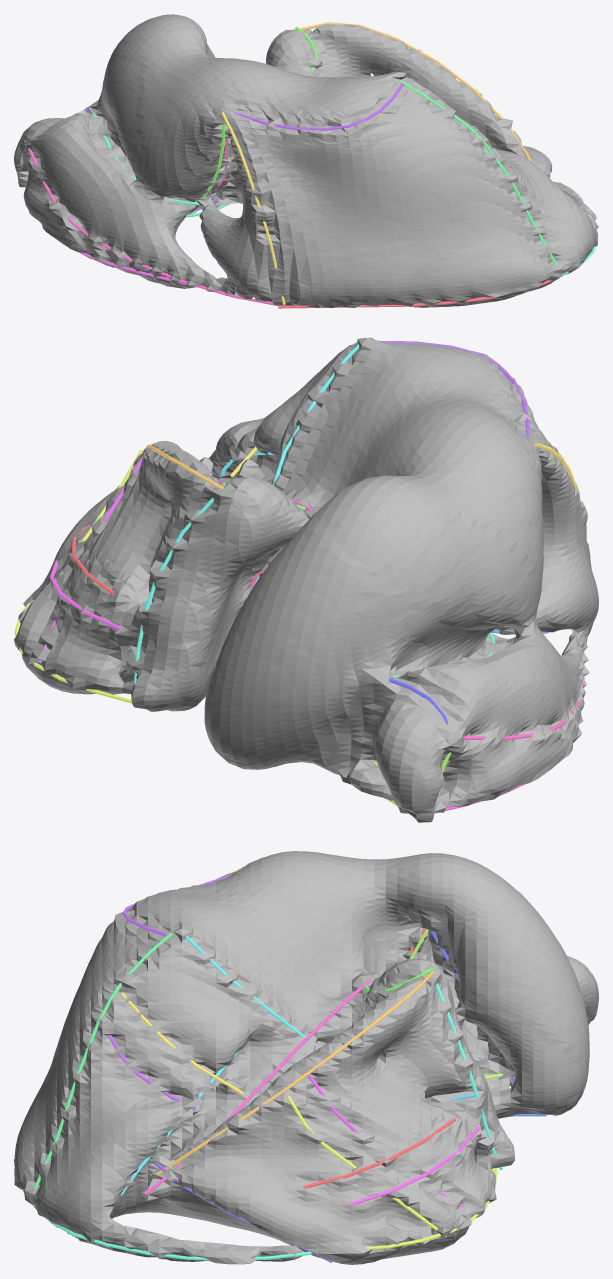
Rendered from author1_building.gltf.
The picture shows the model from 3 angles, top to bottom: view 1: azimuth 30°, elevation 25°; view 2: azimuth 150°, elevation 25°; view 3: azimuth 270°, elevation 25°; orthographic projection. The views are drawn at different scales.
Size of the model in its own units: 0.7084 by 0.3449 by 0.686.
